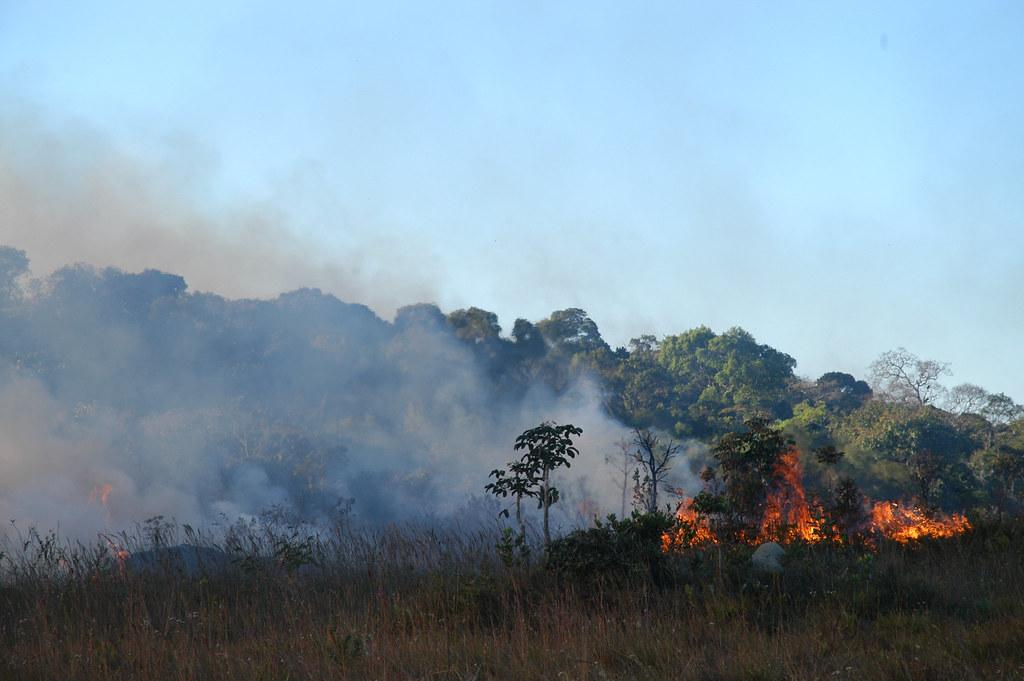Fire: (747, 455, 844, 544), (864, 495, 973, 543), (655, 497, 720, 556)
